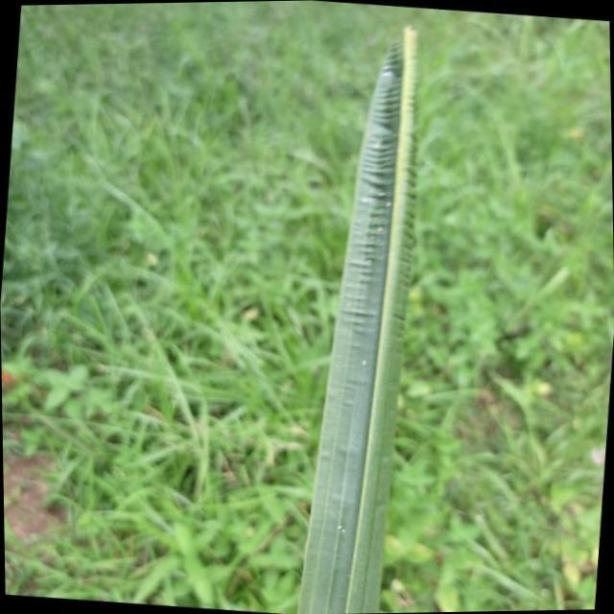Boron: (299, 24, 422, 614)
